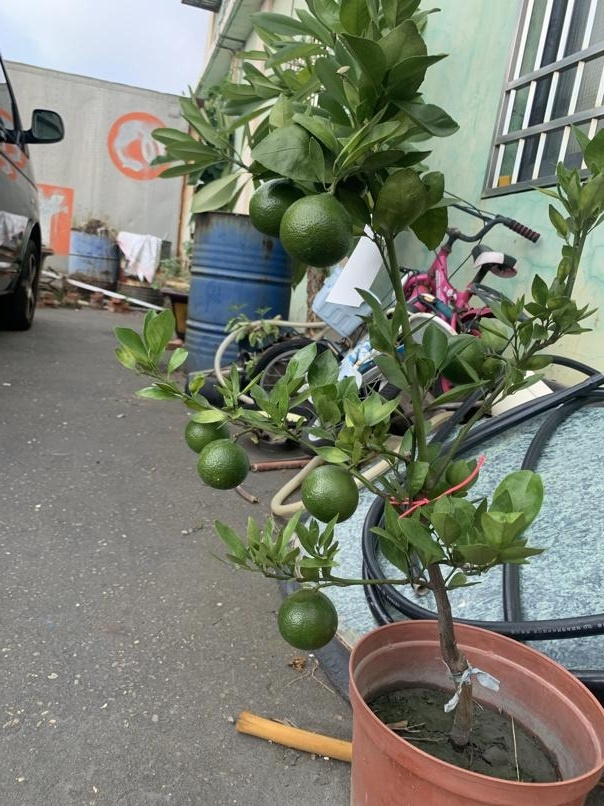Tangerine: (282, 191, 352, 267), (275, 583, 341, 652), (301, 463, 361, 525), (196, 440, 250, 491)
